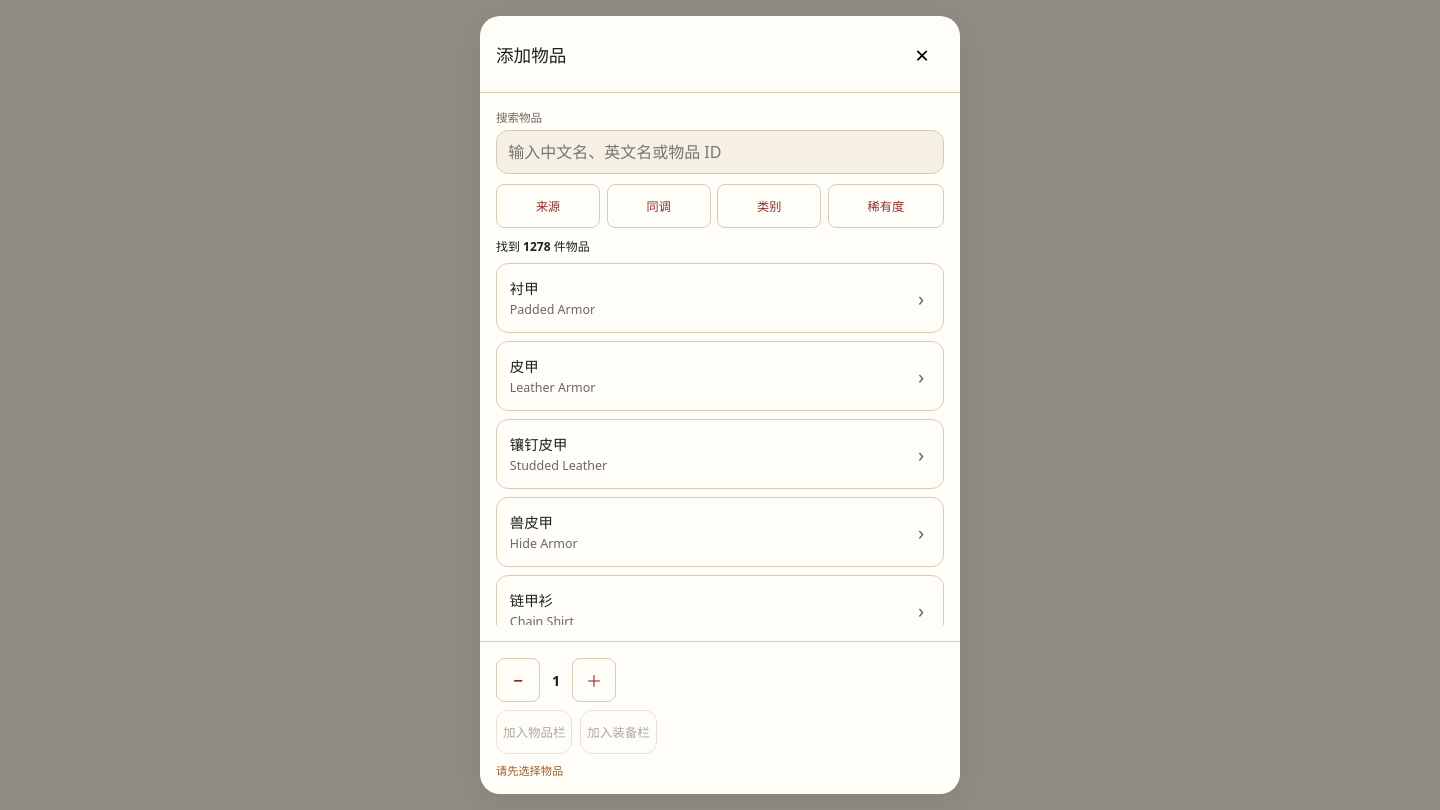
Scenario: AddItemModal › supports English and stable-ID search, and empty filter groups
Type "Longsword" into the search field labelled "搜索物品" at (720, 152), box [496,130,944,174]
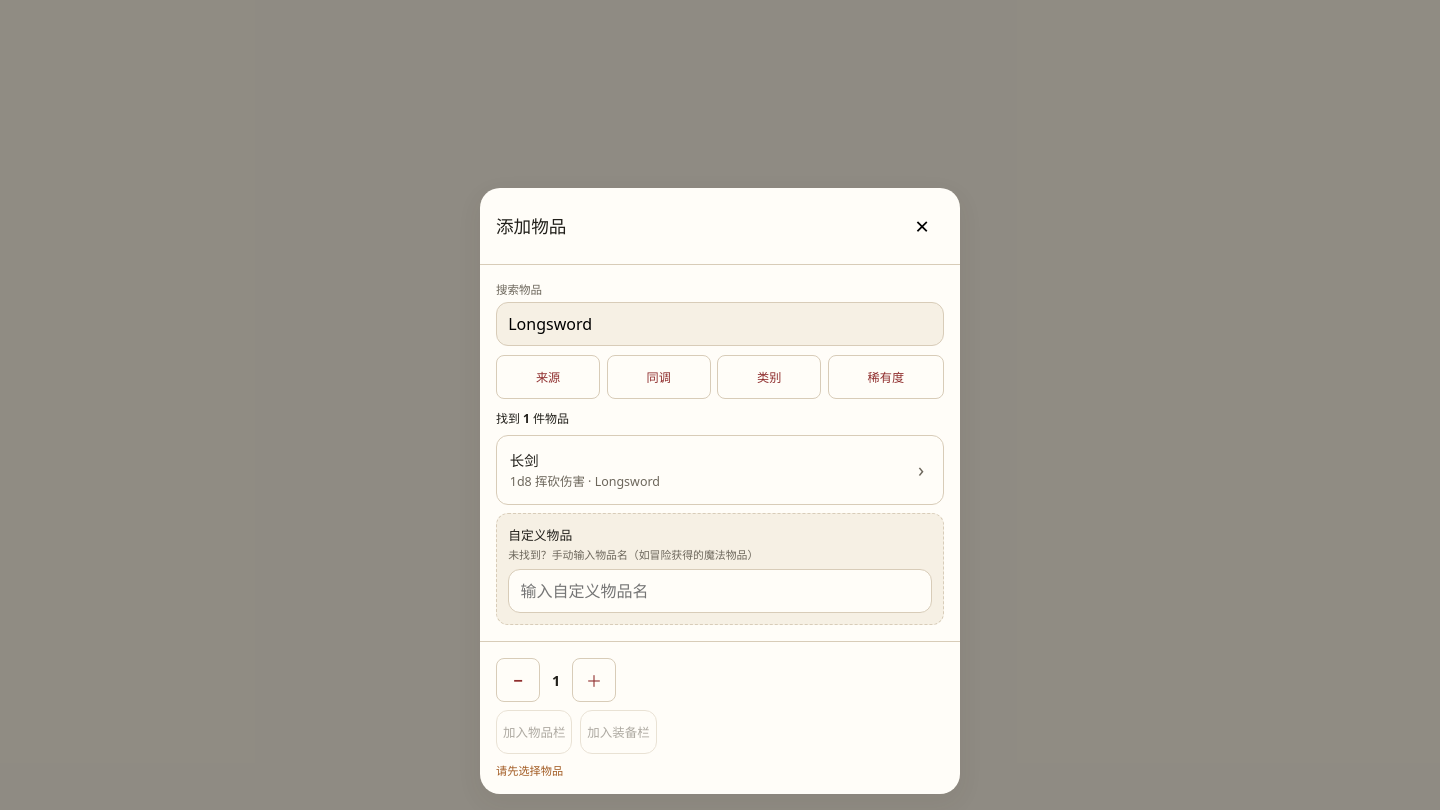
Expected: the text "长剑" is shown, [510,449,539,470]
Replace the text in the search field labelled "搜索物品" with "potion-of-healing" at (720, 324), box [496,302,944,346]
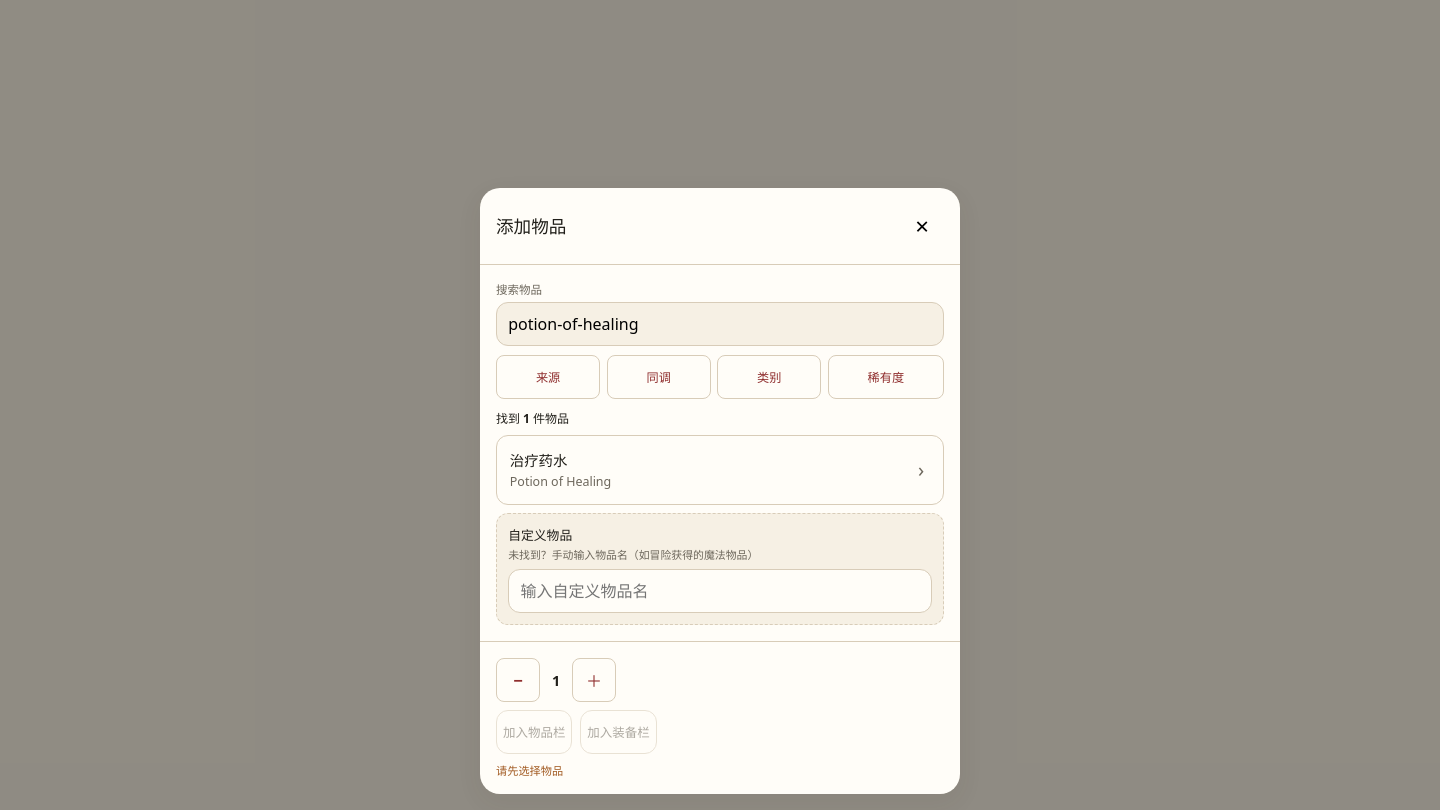
Expected: the text "治疗药水" is shown, [510,449,567,470]
Click the button with class "add-item-modal__filter-button" showing "类别" at (769, 377), box [717,355,821,399]
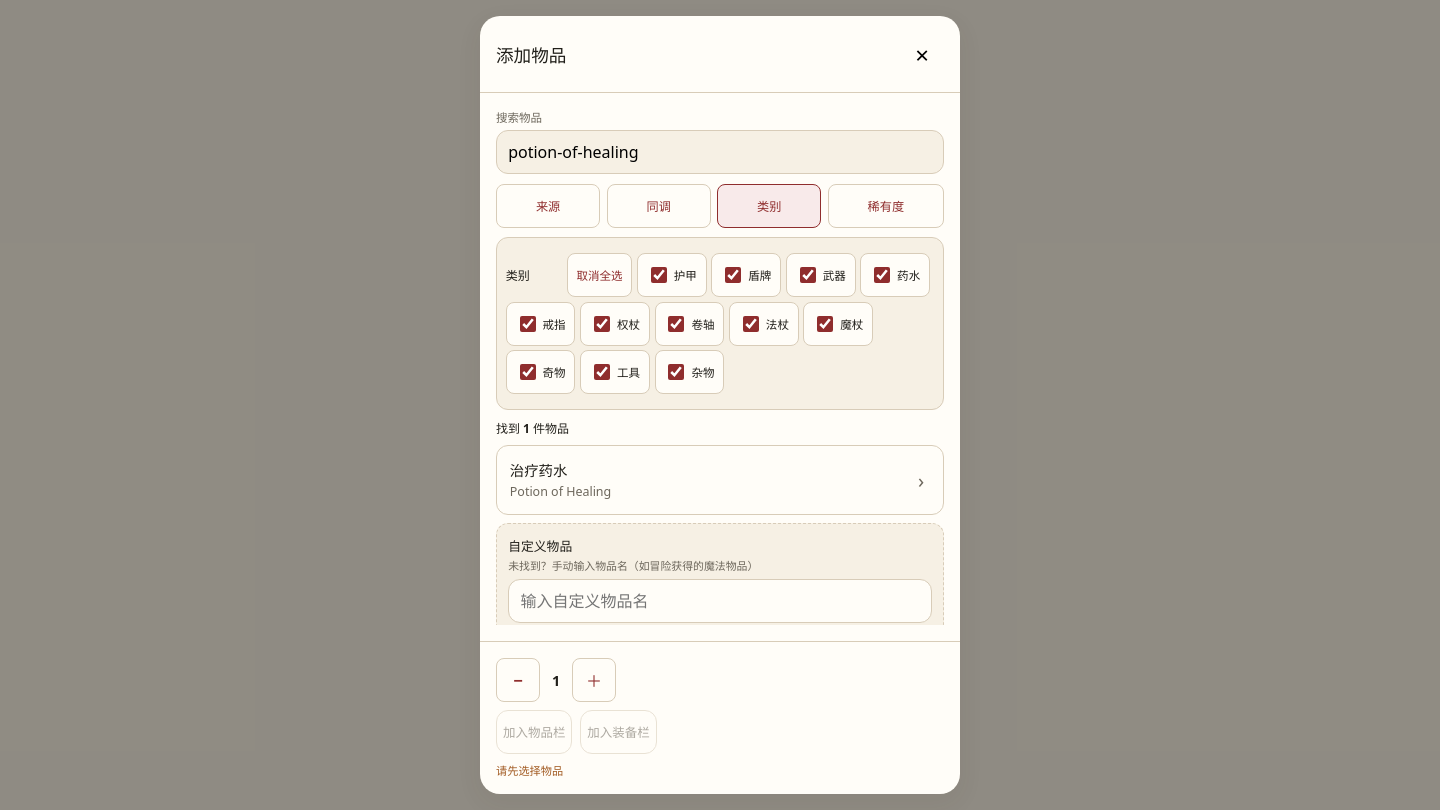
Click the button "取消全选" at (599, 275), box [567,253,632,297]
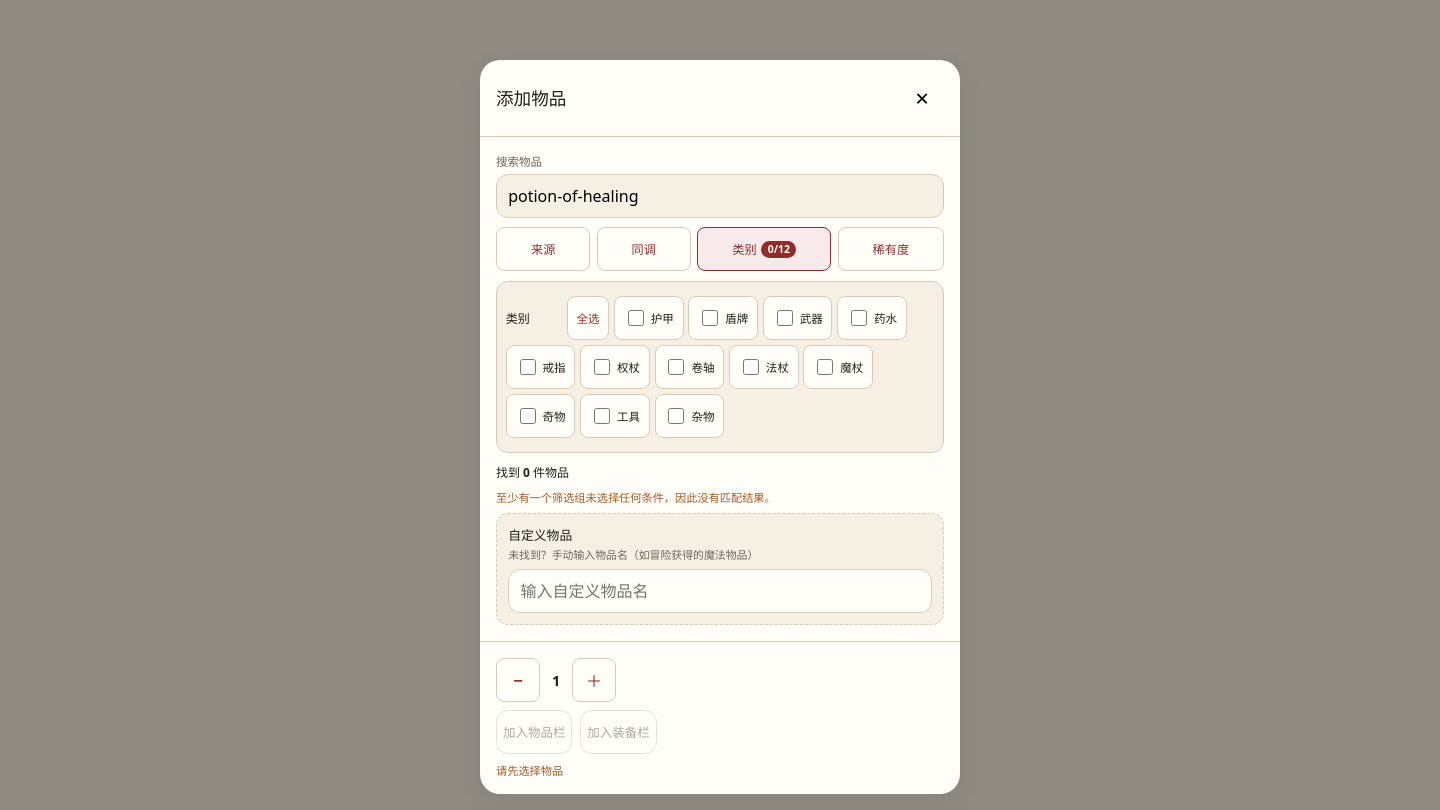
Expected: the text "至少有一个筛选组未选择任何条件" is shown, [496,490,776,505]
